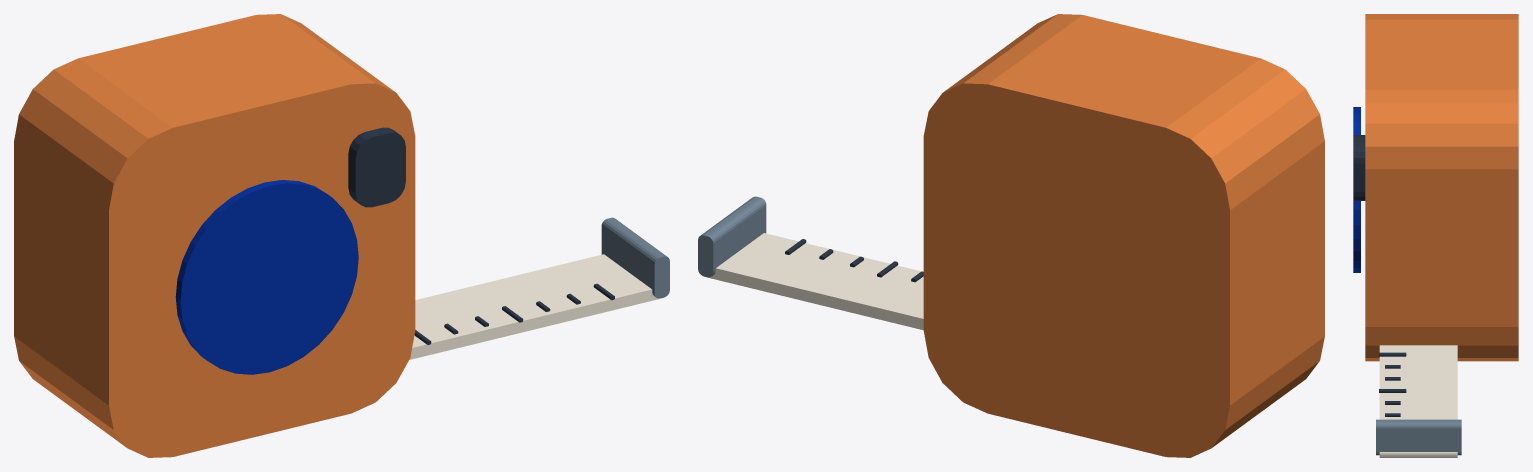
The model's file is taperule.glb.
The picture shows the model from 3 angles, left to right: view 1: azimuth 30°, elevation 25°; view 2: azimuth 150°, elevation 25°; view 3: azimuth 270°, elevation 25°; orthographic projection. The views are drawn at different scales.
Visible parts, largest first — view 1: housing, case inset, blade, lock button, end hook; view 2: housing, blade, end hook; view 3: housing, blade, end hook, case inset, lock button.
Boxes of the visible parts, x1,y1,x2,y2 form: housing: (14,14,415,457); case inset: (175,180,358,374); blade: (409,254,664,359); lock button: (348,127,405,207); end hook: (601,217,669,298); housing: (923,14,1324,457); blade: (703,233,923,330); end hook: (698,196,766,277); housing: (1365,14,1518,361); blade: (1379,345,1457,457); end hook: (1376,419,1461,455); case inset: (1353,107,1360,272); lock button: (1353,135,1365,200).
Bounding box in the file's own units: 2.04 × 1.13 × 0.637.
